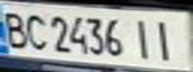2: (45, 11, 69, 55)
3: (84, 14, 109, 56)
4: (66, 12, 87, 55)
6: (103, 15, 130, 58)
B: (0, 7, 30, 50)
C: (21, 10, 48, 52)
I: (148, 16, 184, 62), (127, 15, 157, 61)
